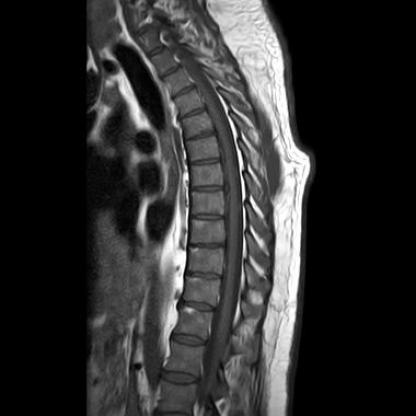Disc Protrusionrotation: (173, 90, 203, 115), (186, 128, 216, 143)
